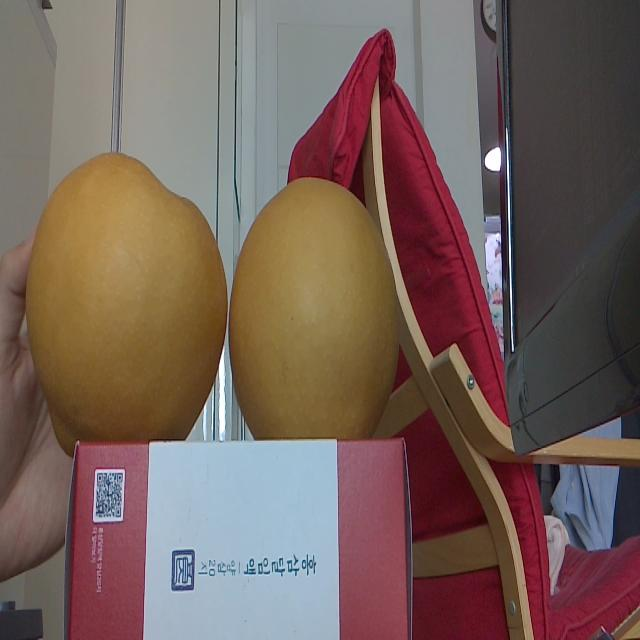pear: (25, 151, 227, 454), (230, 177, 398, 438)
